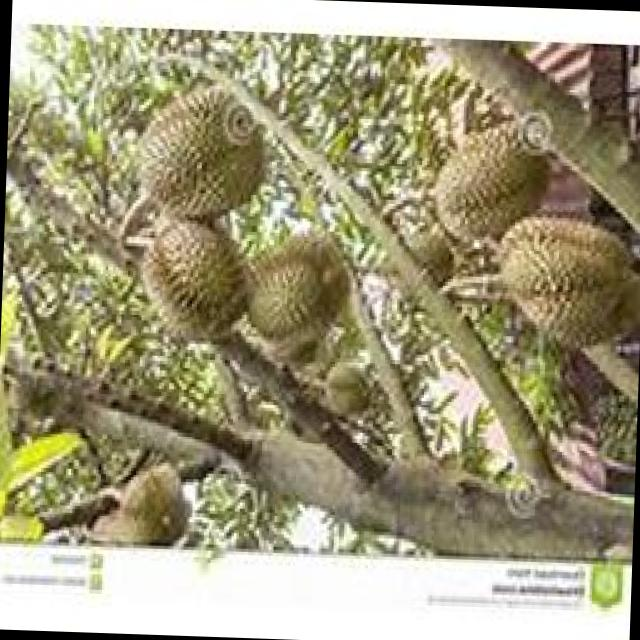fruit: (473, 187, 640, 371), (116, 76, 283, 236), (415, 115, 570, 258)
